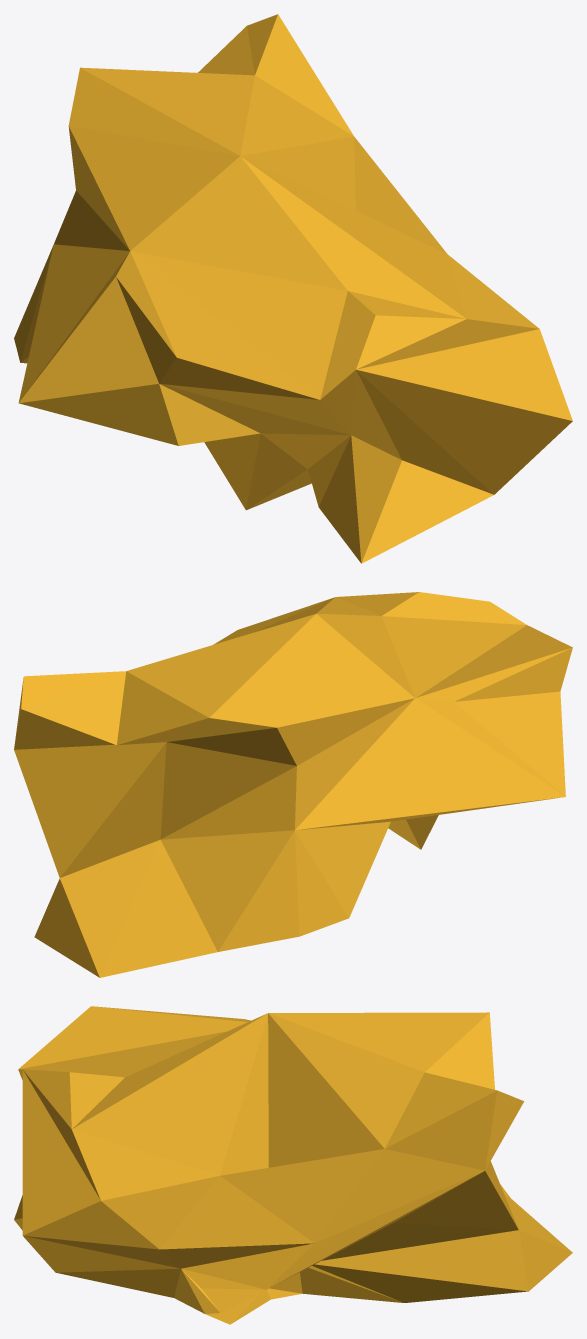
File: gold nugget.glb
3 views of the same model, one above another, from view 1: azimuth 30°, elevation 25°; view 2: azimuth 150°, elevation 25°; view 3: azimuth 270°, elevation 25° (orthographic). The views are drawn at different scales.
Visible parts, largest first — view 1: Cube.001; view 2: Cube.001; view 3: Cube.001.
Boxes of the visible parts, x1,y1,x2,y2 form: Cube.001: [14, 14, 572, 563]; Cube.001: [14, 592, 572, 977]; Cube.001: [14, 1006, 572, 1324].
Bounding box in the file's own units: 0.0179 × 0.0104 × 0.0224.
